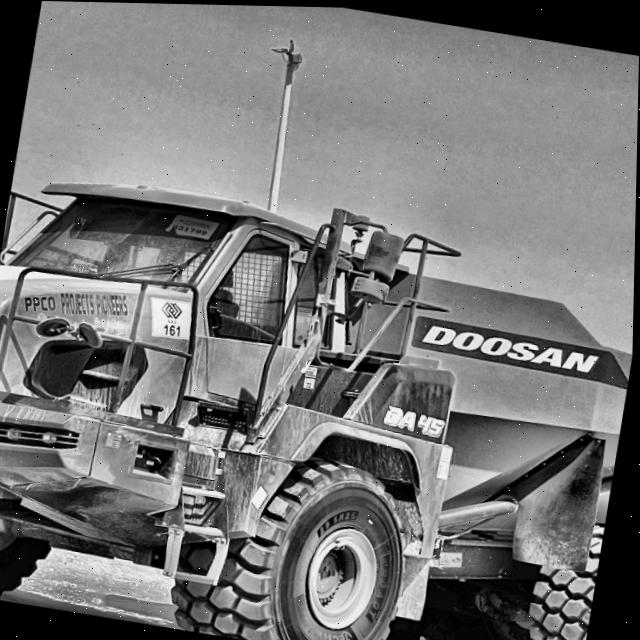dump_truck: (0, 145, 637, 640)
